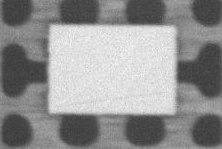DIE_CRACK: (85, 62, 222, 71)
